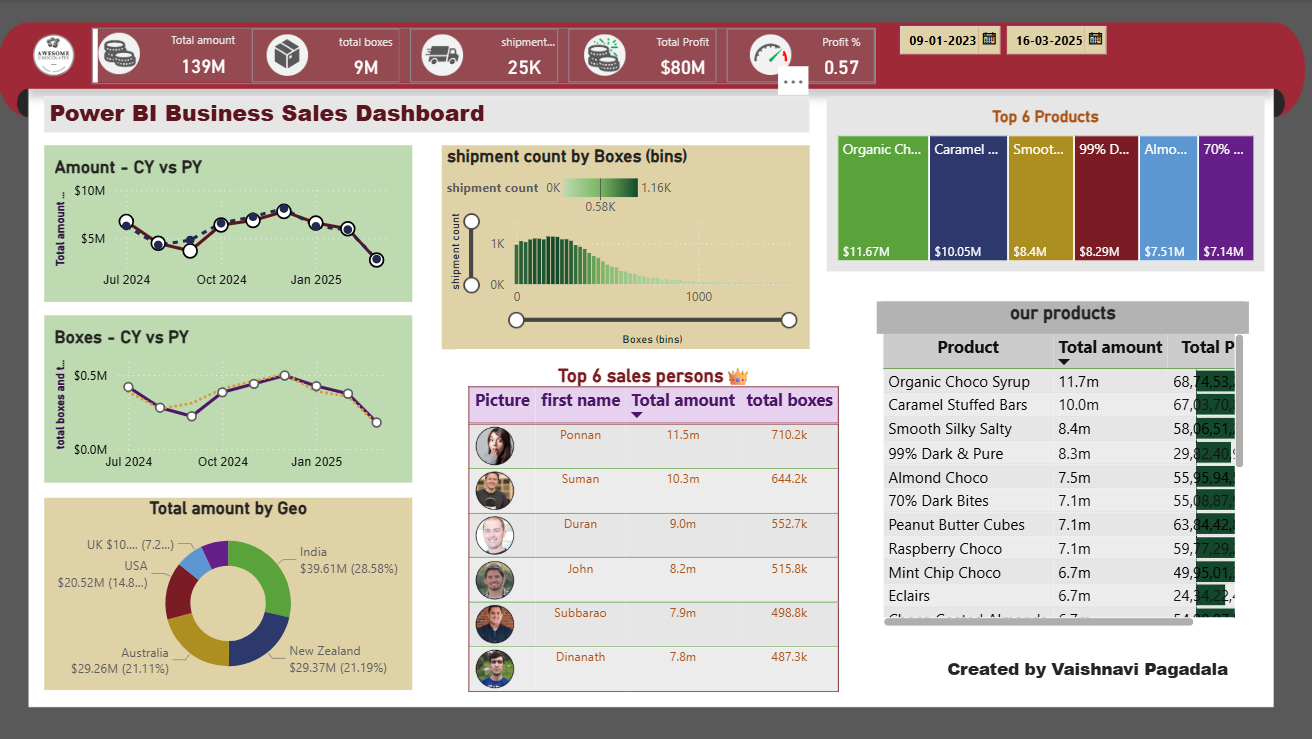

Layout of this report page (visuals, bound fields, positions):
{"tool":"powerbi","page":{"name":"BI report","canvas":[1920,1080],"ordinal":7},"visuals":[{"type":"lineChart","title":"Amount - CY vs PY","fields":{"Y":["shipments.Total amount","shipments.total amount(last year)"],"Category":["calendar.Start of Month"]},"box":[0,13,356,189],"z":0},{"type":"lineChart","title":"Boxes - CY vs PY","fields":{"Y":["shipments.total boxes","shipments.total  boxes (last year)"],"Category":["calendar.Start of Month"]},"box":[0,217,356,191],"z":1000},{"type":"donutChart","fields":{"Category":["locations.Geo"],"Y":["shipments.Total amount"]},"box":[0,419,356,225],"z":2000},{"type":"clusteredColumnChart","fields":{"Y":["shipments.shipment count"],"Category":["shipments.Boxes (bins)"]},"box":[363,0,356,189],"z":3000},{"type":"tableEx","title":"Top 6 sales persons👑","fields":{"Values":["people.Picture","people.first name","shipments.Total amount","shipments.total boxes","people.Picture"]},"box":[363,217,373,346],"z":4000},{"type":"treemap","title":"Top 6 Products","fields":{"Values":["shipments.Total amount"],"Group":["products.Product"]},"box":[751,32,439,157],"z":5000},{"type":"tableEx","title":"our products","fields":{"Values":["products.Product","shipments.Total amount","shipments.Total Profit"]},"box":[751,217,439,346],"z":6000}]}

Visuals, with their boxes on the page's 1920x1080 design canvas (x1, y1, x2, y2). These are canvas units, not pixel positions in the 1312x739 screenshot, which may show the page scaled, cropped or inside an application window:
"Amount - CY vs PY" lineChart: <bbox>0, 13, 356, 202</bbox>
"Boxes - CY vs PY" lineChart: <bbox>0, 217, 356, 408</bbox>
donutChart - locations.Geo x shipments.Total amount: <bbox>0, 419, 356, 644</bbox>
clusteredColumnChart - shipments.shipment count x shipments.Boxes (bins): <bbox>363, 0, 719, 189</bbox>
"Top 6 sales persons👑" tableEx: <bbox>363, 217, 736, 563</bbox>
"Top 6 Products" treemap: <bbox>751, 32, 1190, 189</bbox>
"our products" tableEx: <bbox>751, 217, 1190, 563</bbox>
